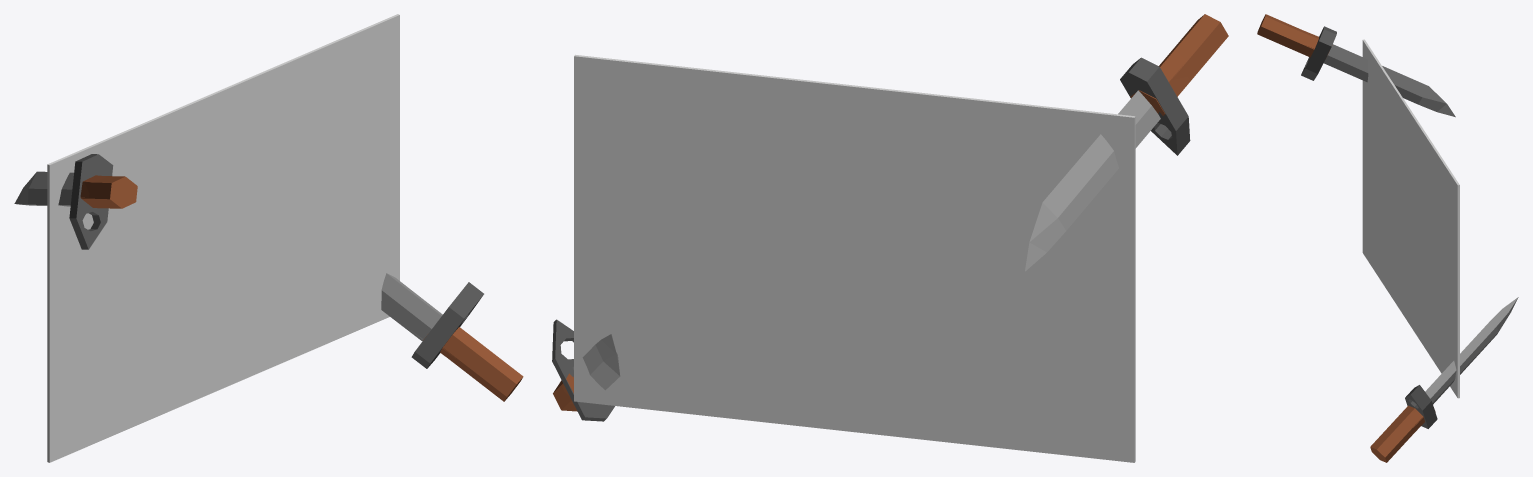
Rendered from salvador_stats.glb.
3 renders of one model, left to right at view 1: azimuth 30°, elevation 25°; view 2: azimuth 150°, elevation 25°; view 3: azimuth 270°, elevation 25°, orthographic. The views are drawn at different scales.
Visible parts, largest first — view 1: Stat sheet salvador; view 2: Stat sheet salvador; view 3: Stat sheet salvador.
Boxes of the visible parts, x1,y1,x2,y2 form: Stat sheet salvador: (14,14,523,462); Stat sheet salvador: (552,14,1228,462); Stat sheet salvador: (1257,14,1518,462).
Bounding box in the file's own units: 11.15 × 8.5 × 7.1.
